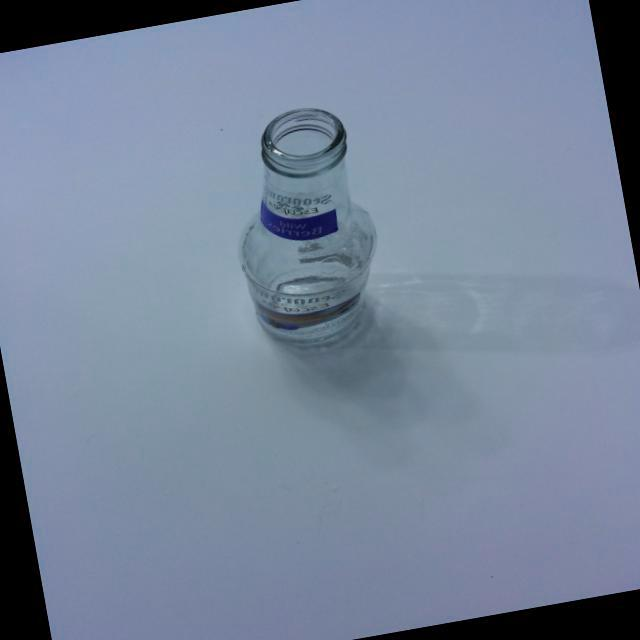glass: (204, 89, 422, 372)
